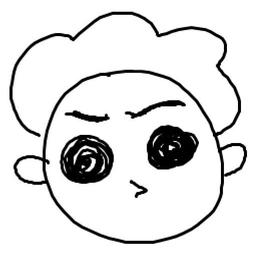ear: (11, 153, 48, 189), (216, 141, 248, 178)
eye: (57, 131, 115, 188), (145, 124, 202, 176)
eyebrow: (126, 98, 184, 121), (62, 108, 110, 127)
pointy_nose: (128, 175, 152, 203)
